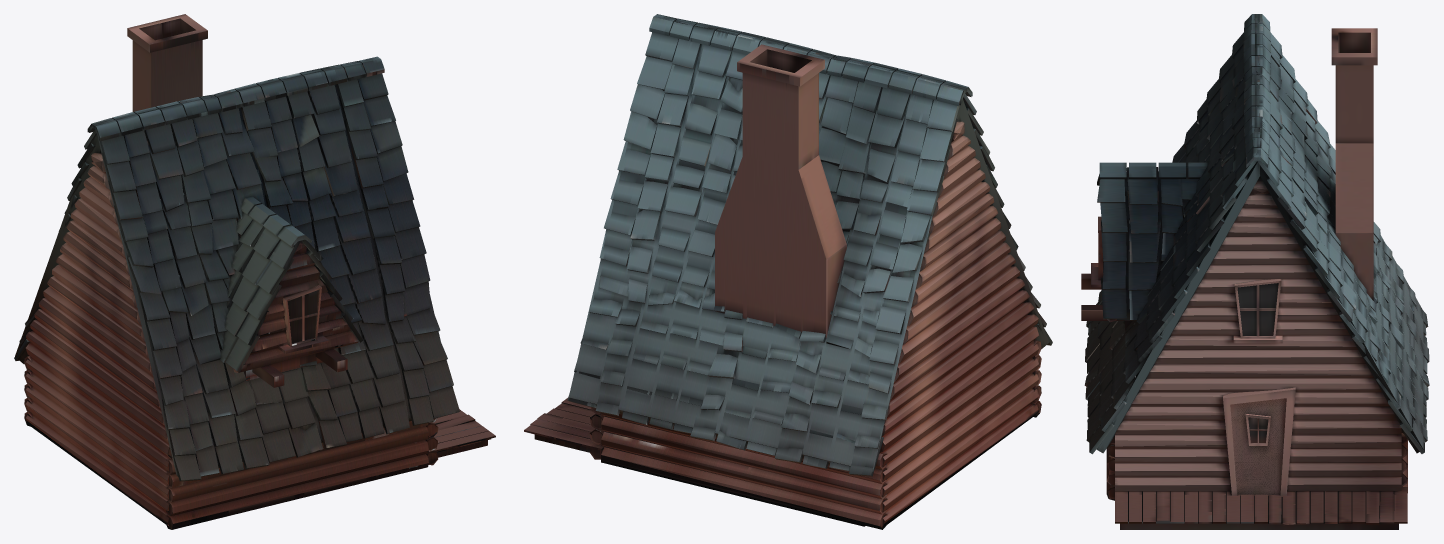
Rendered from House.fbx.
The picture shows the model from 3 angles, left to right: view 1: azimuth 30°, elevation 25°; view 2: azimuth 150°, elevation 25°; view 3: azimuth 270°, elevation 25°; orthographic projection. The views are drawn at different scales.
Visible parts, largest first — view 1: 2-_Material.003; view 2: 2-_Material.003; view 3: 2-_Material.003.
Boxes of the visible parts, left/top/right/bottom form: 2-_Material.003: left=14, top=14, right=495, bottom=529; 2-_Material.003: left=524, top=14, right=1052, bottom=529; 2-_Material.003: left=1081, top=14, right=1429, bottom=529.
Bounding box in the file's own units: 461 × 508 × 410.
Materials: 1 (1 with a texture image).
